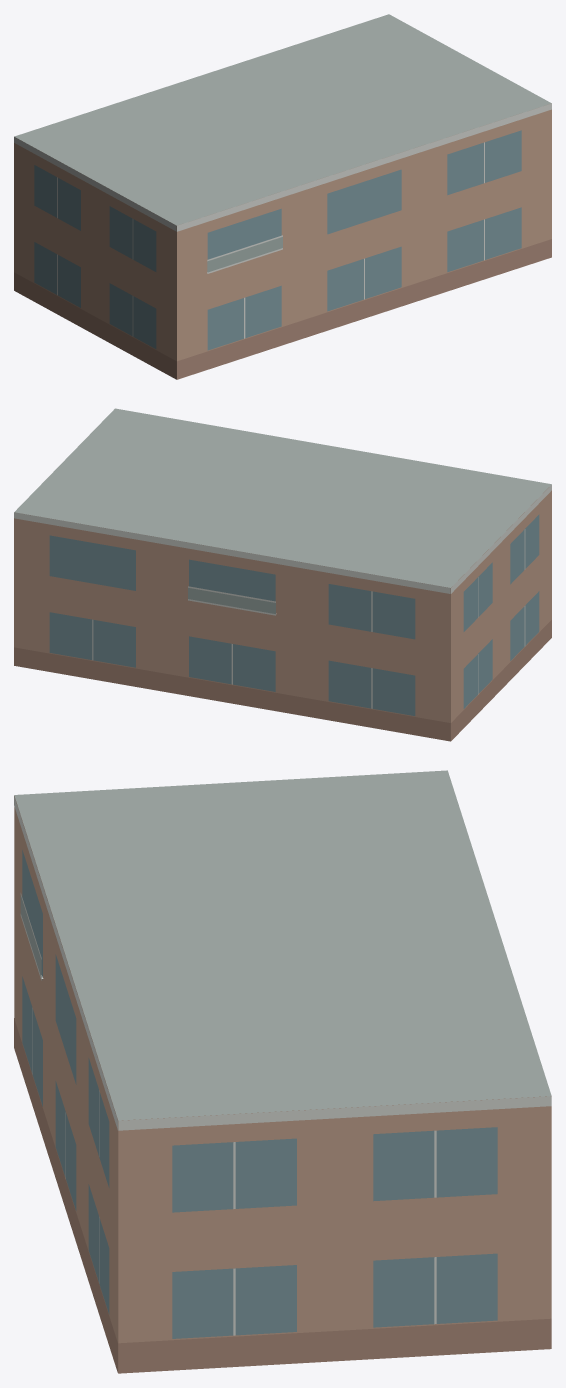
File: survey-upis-32830395.glb
3 renders of one model, top to bottom at view 1: azimuth 30°, elevation 25°; view 2: azimuth 150°, elevation 25°; view 3: azimuth 270°, elevation 25°, orthographic. The views are drawn at different scales.
Visible parts, largest first — view 1: survey-upis-32830395.tmp; view 2: survey-upis-32830395.tmp; view 3: survey-upis-32830395.tmp.
Part boxes in pixels (x1,y1,x2,y2): survey-upis-32830395.tmp: [14, 14, 551, 379]; survey-upis-32830395.tmp: [14, 408, 551, 741]; survey-upis-32830395.tmp: [14, 770, 551, 1373].
Size of the model in its own units: 18.13 by 6.1 by 11.76.
